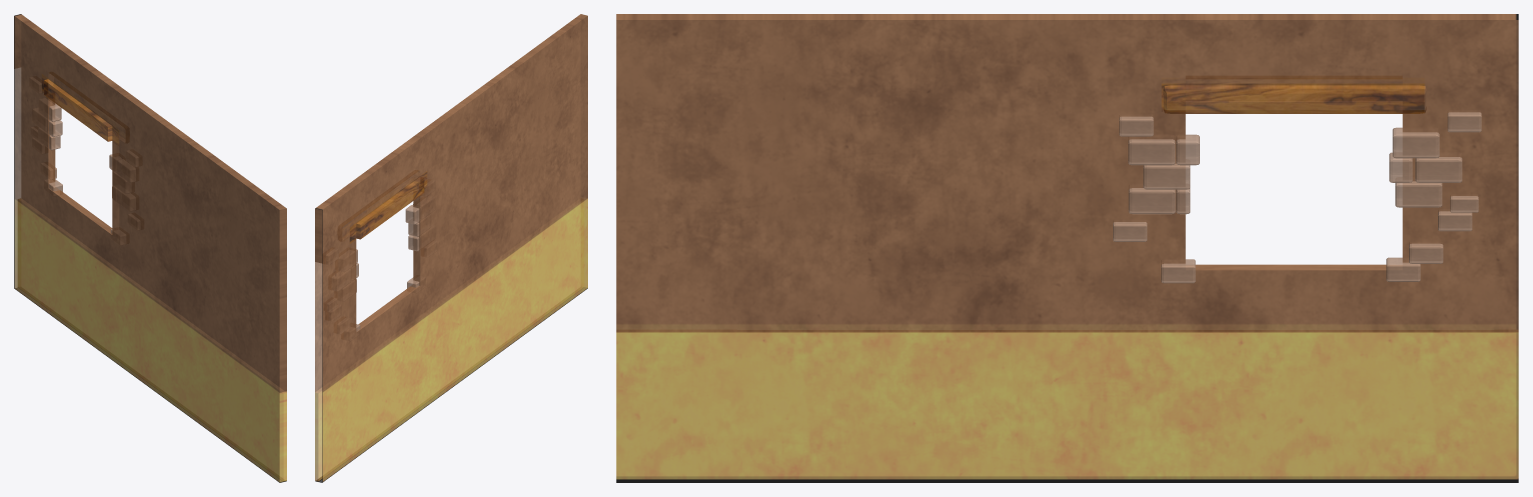
Rendered from mur1.fbx.
3 views of the same model, side by side, from view 1: azimuth 30°, elevation 25°; view 2: azimuth 150°, elevation 25°; view 3: azimuth 270°, elevation 25° (orthographic). The views are drawn at different scales.
Visible parts, largest first — view 1: Mur_de_face, Brique; view 2: Mur_de_face, Brique; view 3: Mur_de_face, Brique.
Part boxes in pixels (x1,y1,x2,y2): Mur_de_face: [14, 14, 286, 482]; Brique: [29, 77, 140, 245]; Mur_de_face: [315, 14, 587, 482]; Brique: [326, 180, 436, 340]; Mur_de_face: [616, 14, 1518, 482]; Brique: [1113, 110, 1481, 283].
Bounding box in the file's own units: 17.94 × 282 × 497.
Materials: 1 (1 with a texture image).
